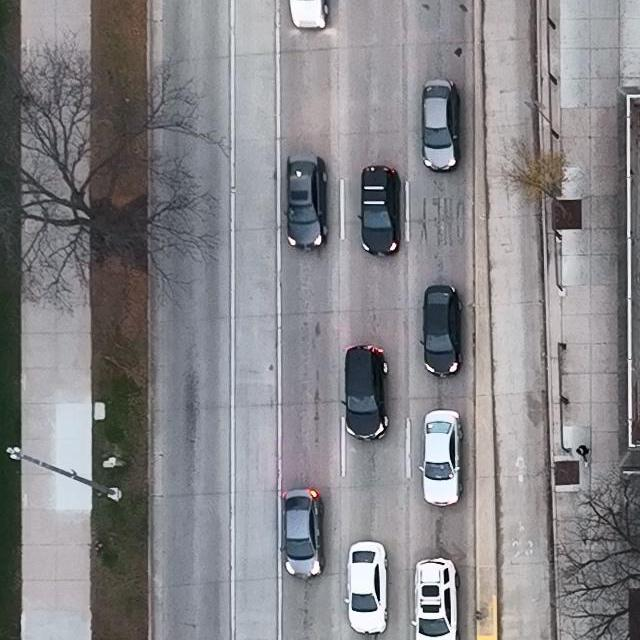car: (340, 344, 389, 443), (283, 154, 329, 251), (419, 409, 464, 507), (344, 541, 388, 635), (280, 489, 325, 580), (357, 165, 401, 258), (419, 285, 462, 378), (412, 557, 460, 640), (421, 79, 460, 173), (289, 0, 330, 28)
